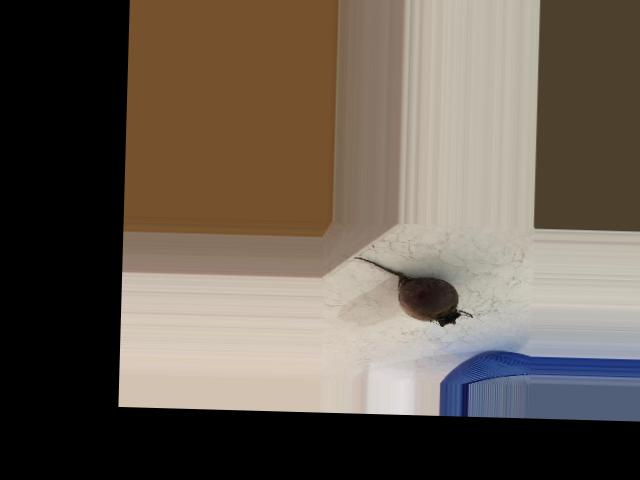beet: (352, 256, 473, 326)
